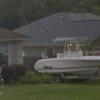Boat: (30, 42, 100, 92)
